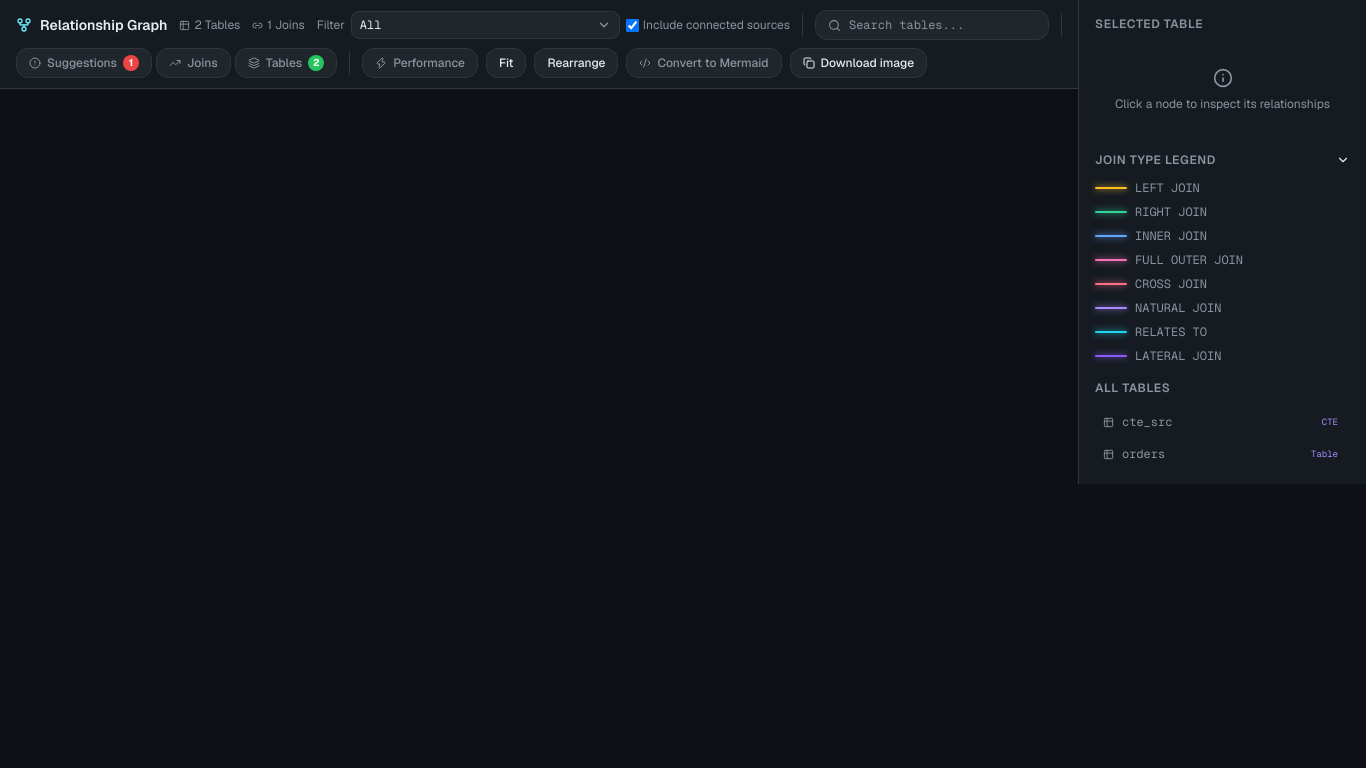
Test: relationship graph filtering and selection (019 A13, A15, A28) › A15: choosing a search match selects that source, clears the query, and adds no second search field
This screenshot has width=1366, height=768.
Type "orders" into the field labelled "Search tables..." at (942, 25), box [849,17,1036,33]
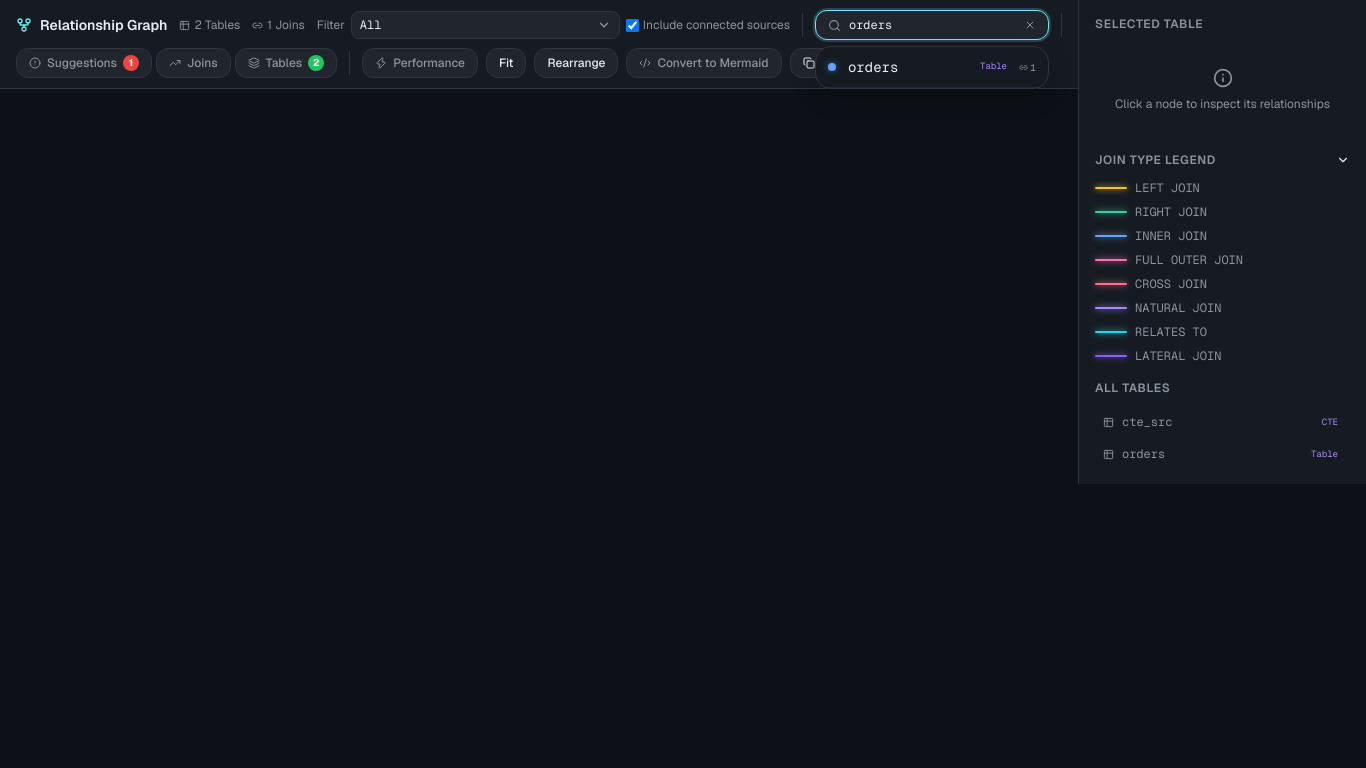
Expected: the element with class "top-full" is shown, [815,46,1049,89]
Press the mouse on the text "orders" at (873, 67), box [848,58,898,76]
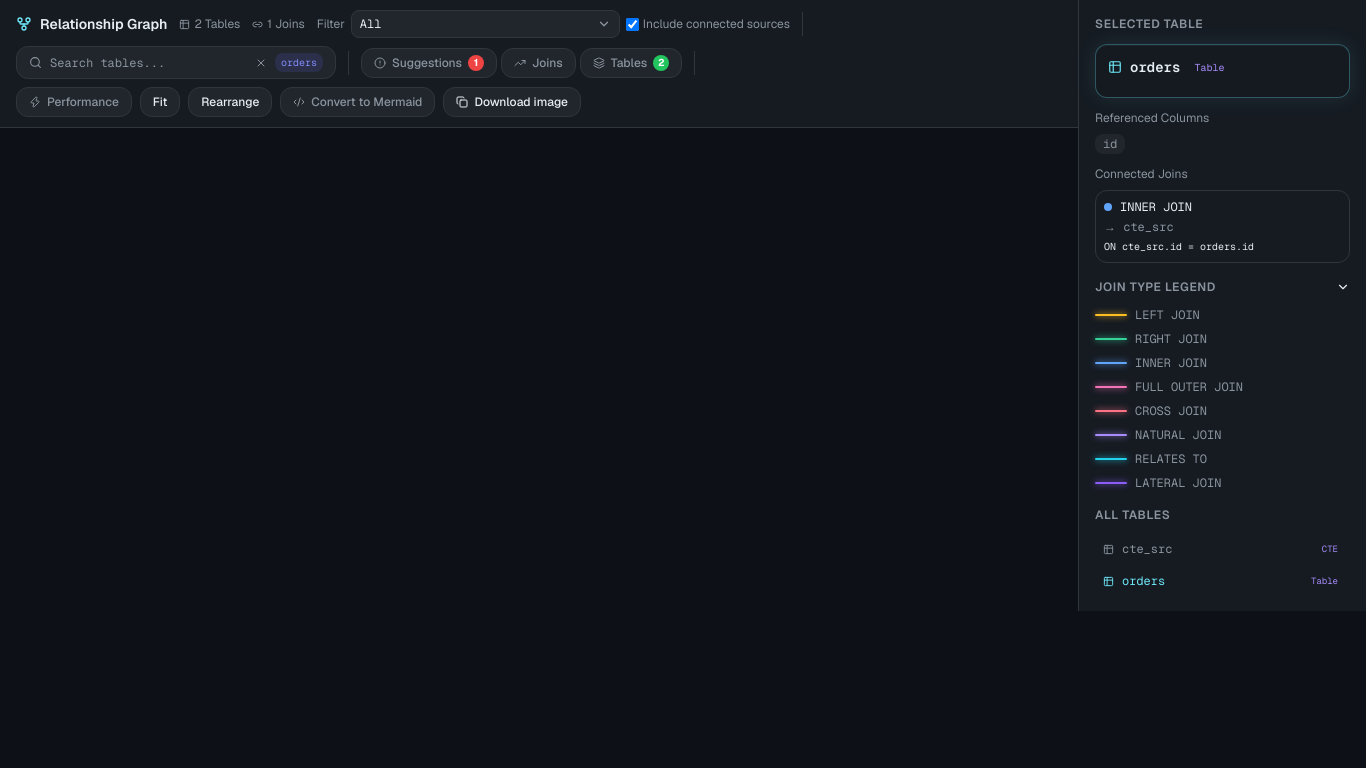
Expected: the number of fields labelled "Search tables..." is 1, [50,54,247,70]
Expected: the text "orders" below "Relationship Graph" is shown, [281,56,317,69]
Expected: the field labelled "Search tables..." is empty, [50,54,247,70]
